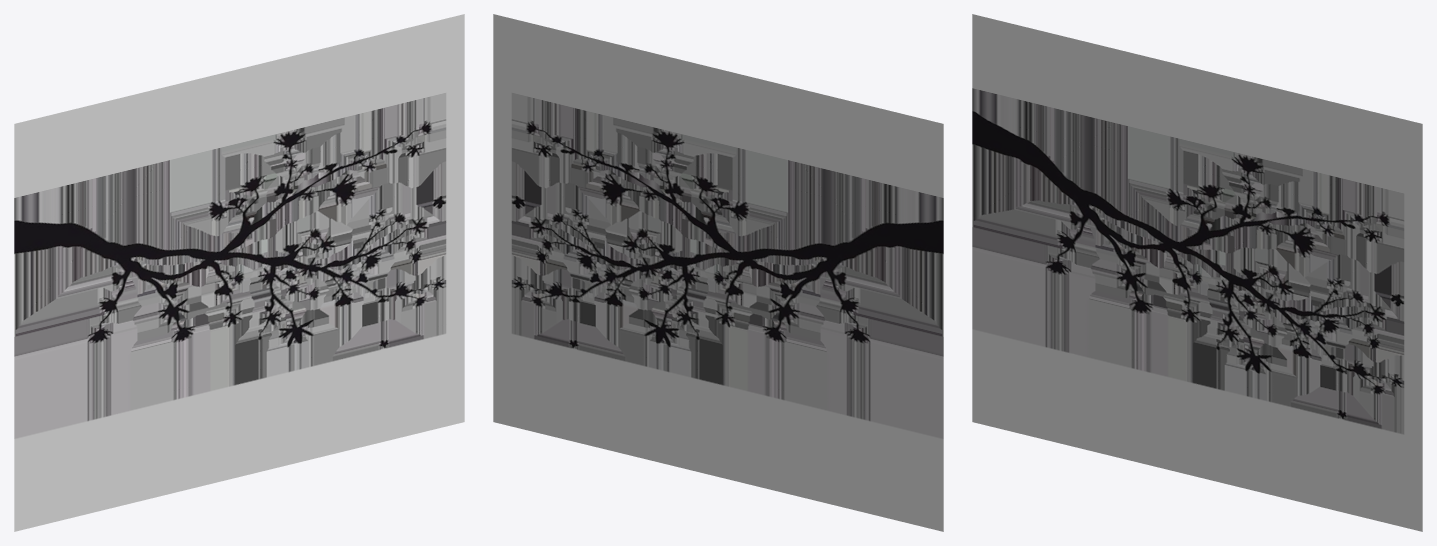
Rendered from Stiker.fbx.
3 renders of one model, left to right at view 1: azimuth 30°, elevation 25°; view 2: azimuth 150°, elevation 25°; view 3: azimuth 330°, elevation 25°, orthographic.
Parts seen in each view (by area): view 1: Stiker; view 2: Stiker; view 3: Stiker.
Part boxes in pixels (box(x1,y1,x2,y2)): Stiker: box(14, 14, 464, 531); Stiker: box(493, 14, 943, 531); Stiker: box(972, 14, 1422, 531).
Bounding box in the file's own units: 289 × 250 × 5.17e-05.
Materials: 1 (1 with a texture image).
